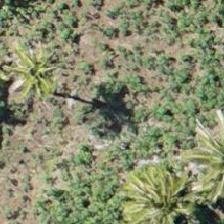coconut_tree: (0, 31, 80, 121), (116, 156, 206, 223)
